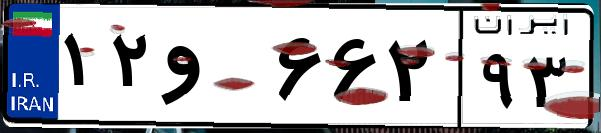1: (57, 26, 110, 100)
2: (385, 28, 445, 110), (110, 28, 158, 98)
3: (525, 38, 570, 115)
6: (270, 28, 330, 110), (330, 28, 385, 110)
9: (475, 38, 525, 113)
و: (158, 20, 270, 120)
